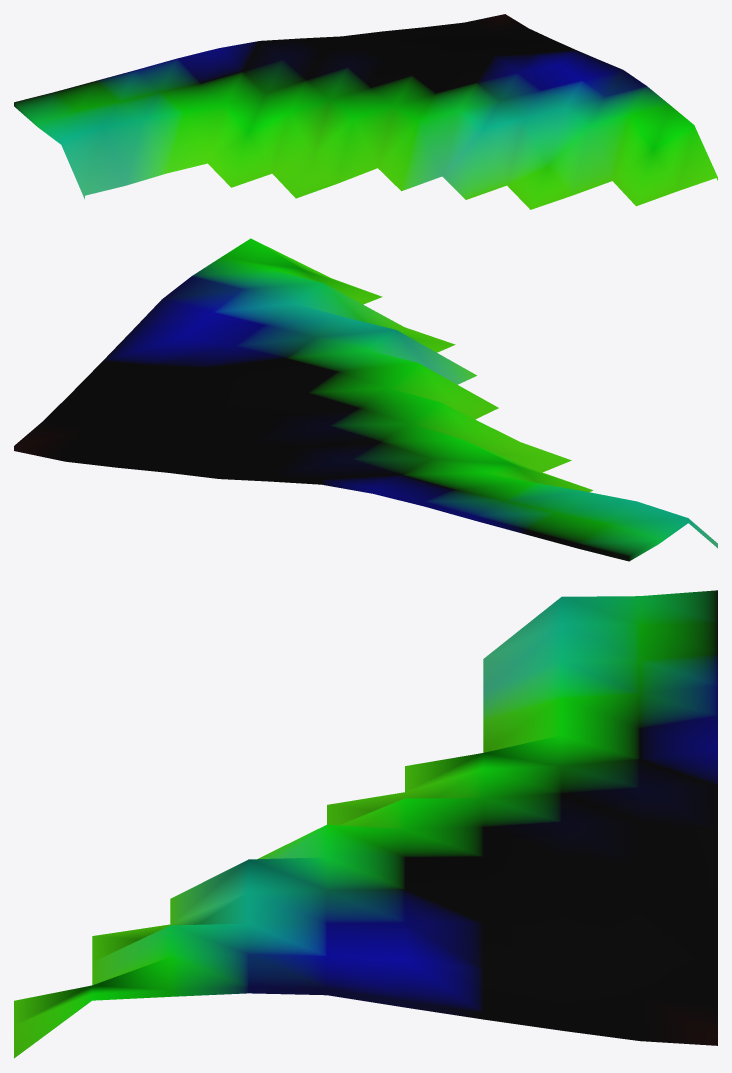
File: coast_5_8.glb
3 views of the same model, one above another, from view 1: azimuth 30°, elevation 25°; view 2: azimuth 150°, elevation 25°; view 3: azimuth 270°, elevation 25° (orthographic). The views are drawn at different scales.
Parts seen in each view (by area): view 1: terrain; view 2: terrain; view 3: terrain.
Part boxes in pixels (box(x1,y1,x2,y2)): terrain: box(14, 14, 717, 209); terrain: box(14, 238, 717, 561); terrain: box(14, 590, 717, 1058).
Size of the model in its own units: 192 by 20.14 by 144.
